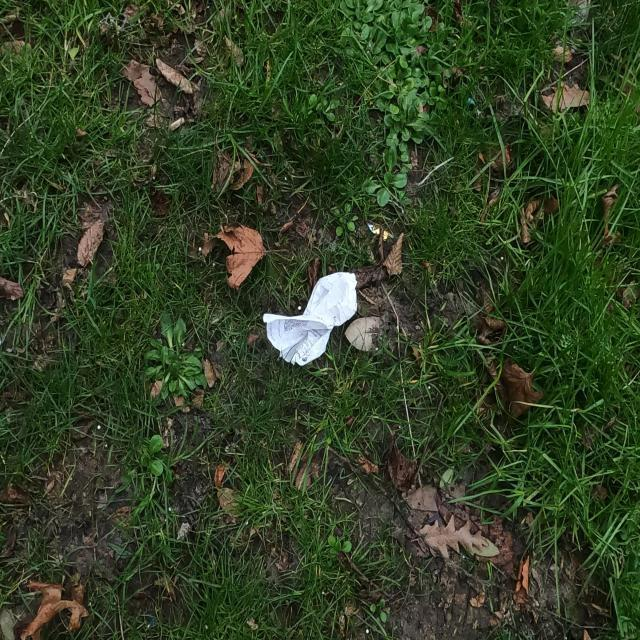Paper: (262, 270, 358, 370)
